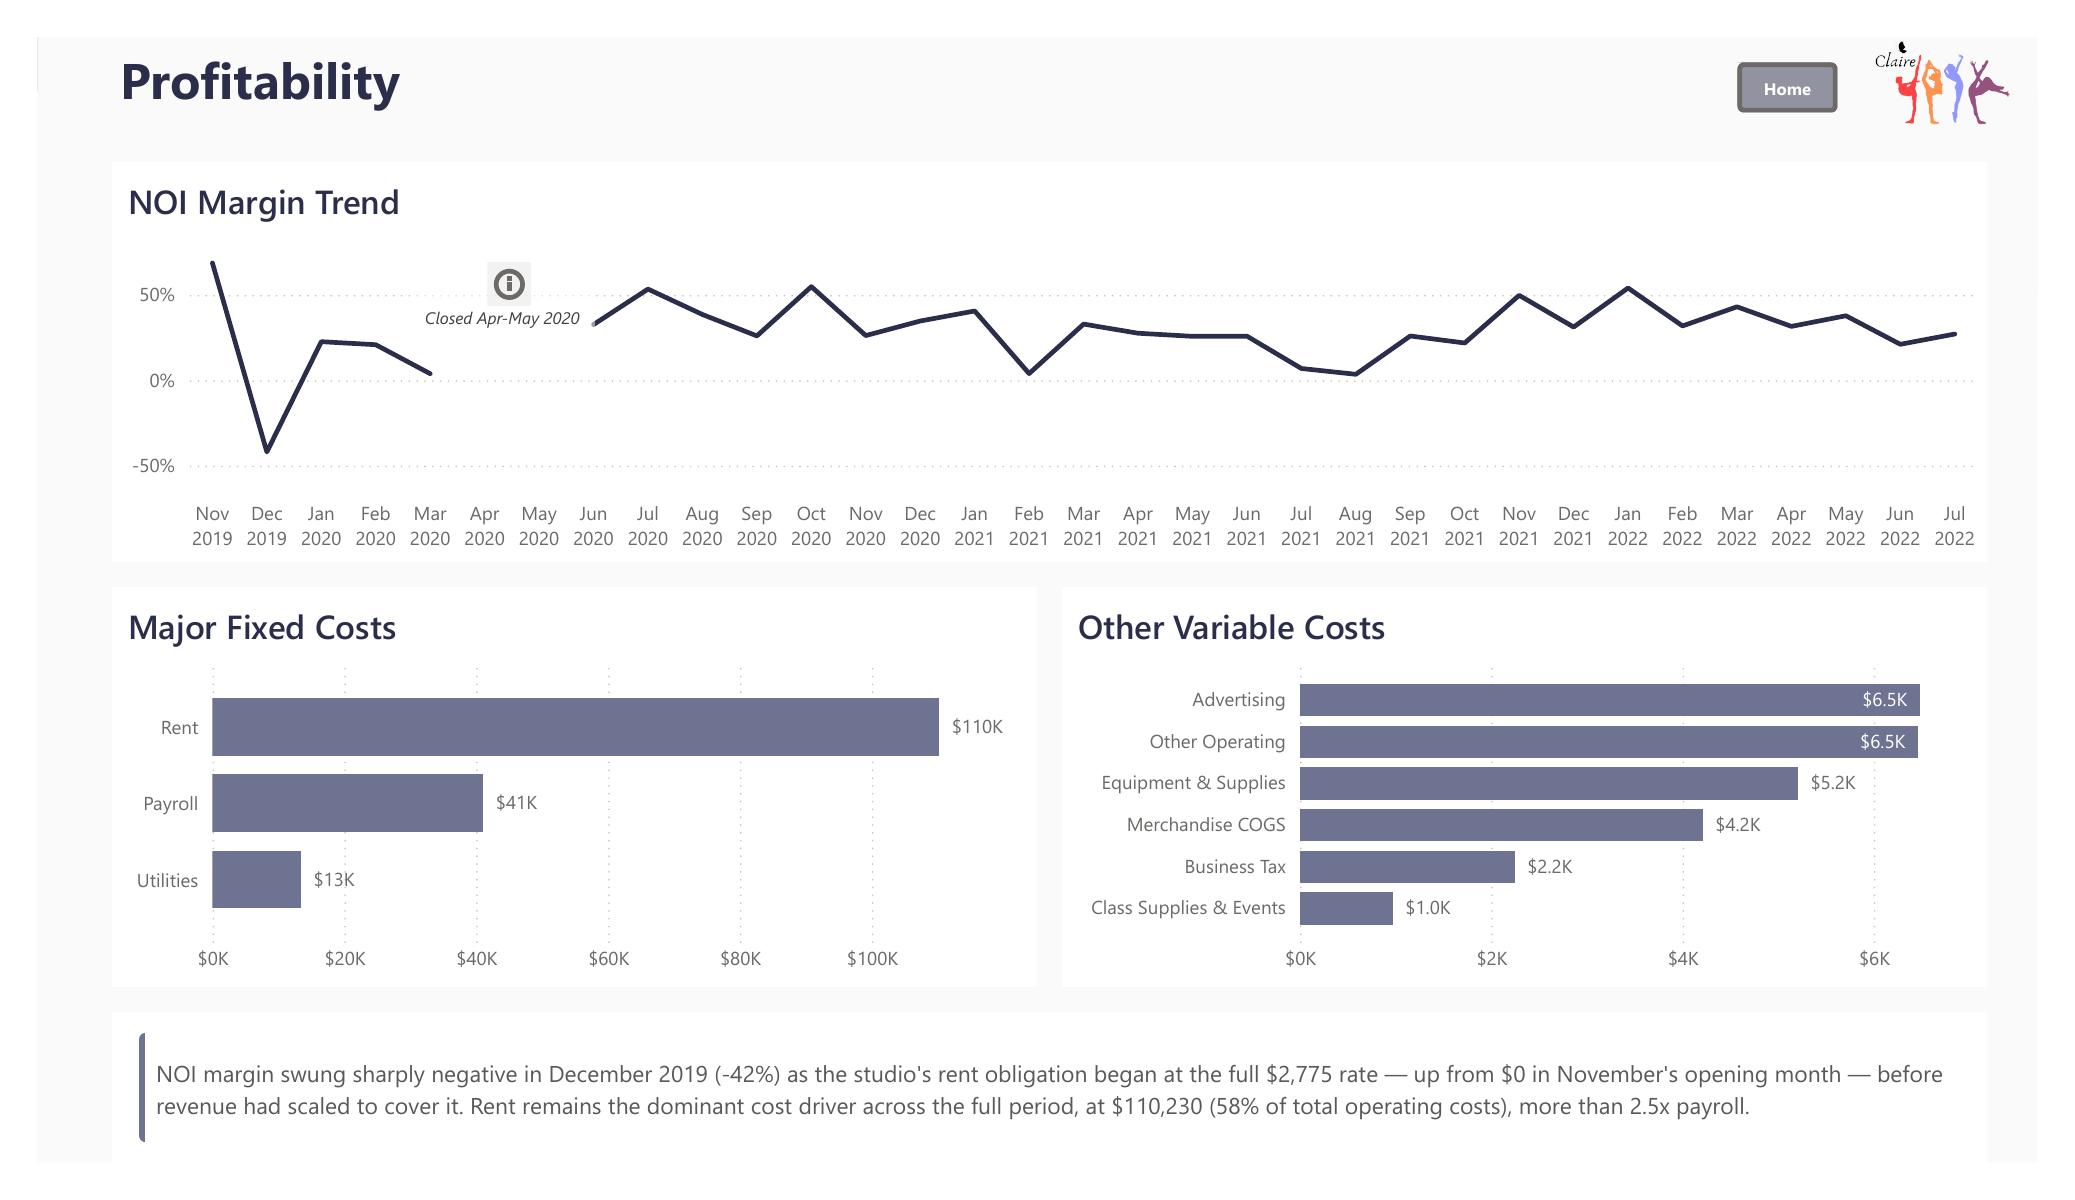

This screenshot's page, from the dashboard's own definition file:
{"tool":"powerbi","page":{"name":"Profitability","canvas":[1280,720],"ordinal":4},"visuals":[{"type":"textbox","title":"Business Overview","box":[32,0,224,64],"z":0},{"type":"lineChart","title":"NOI Margin Trend","fields":{"Y":["_Measures.NOI Margin % (Financials)"],"Category":["DateTable.YearMonth"]},"box":[48,80,1200,256],"z":0,"group":"g2"},{"type":"image","box":[1168,0,112,80],"z":1000},{"type":"group","id":"g1","title":"Group 1","box":[242.6,165.3,113.5,34.1],"z":1000,"group":"g2"},{"type":"clusteredBarChart","title":"Major Fixed Costs","fields":{"Y":["Sum(FinancialsLong.Amount)"],"Category":["CategoryDimensions.Category"]},"box":[48,352,592,256],"z":2000},{"type":"group","id":"g2","title":"Group 3","box":[48,80,1200,256],"z":3000,"group":"g3"},{"type":"clusteredBarChart","title":"Other Variable Costs","fields":{"Y":["Sum(FinancialsLong.Amount)"],"Category":["CategoryDimensions.Category"]},"box":[656,352,592,256],"z":3000},{"type":"cardVisual","fields":{"Data":["_Measures.Profitability Insight"]},"box":[48,624,1200,96],"z":4000},{"type":"group","id":"g3","title":"Group 4","box":[48,80,1200,256],"z":5000},{"type":"group","id":"g4","title":"Group 2","box":[242.6,165.3,113.5,34.1],"z":5001,"group":"g1"},{"type":"actionButton","box":[1088,16,64,32],"z":6000},{"type":"actionButton","box":[288,144,28,28],"z":9004,"group":"g3"},{"type":"textbox","box":[242.6,165.3,113.5,34.1],"z":9005,"group":"g4"}]}

Visuals, with their boxes on the page's 1280x720 design canvas (x1, y1, x2, y2). These are canvas units, not pixel positions in the 2075x1200 screenshot, which may show the page scaled, cropped or inside an application window:
"Business Overview" textbox: 32:0:256:64
"NOI Margin Trend" lineChart: 48:80:1248:336
image: 1168:0:1280:80
"Group 1" group: 243:165:356:199
"Major Fixed Costs" clusteredBarChart: 48:352:640:608
"Group 3" group: 48:80:1248:336
"Other Variable Costs" clusteredBarChart: 656:352:1248:608
cardVisual - _Measures.Profitability Insight: 48:624:1248:720
"Group 4" group: 48:80:1248:336
"Group 2" group: 243:165:356:199
actionButton: 1088:16:1152:48
actionButton: 288:144:316:172
textbox: 243:165:356:199
